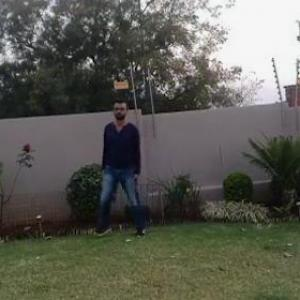follow: (103, 96, 152, 248)
